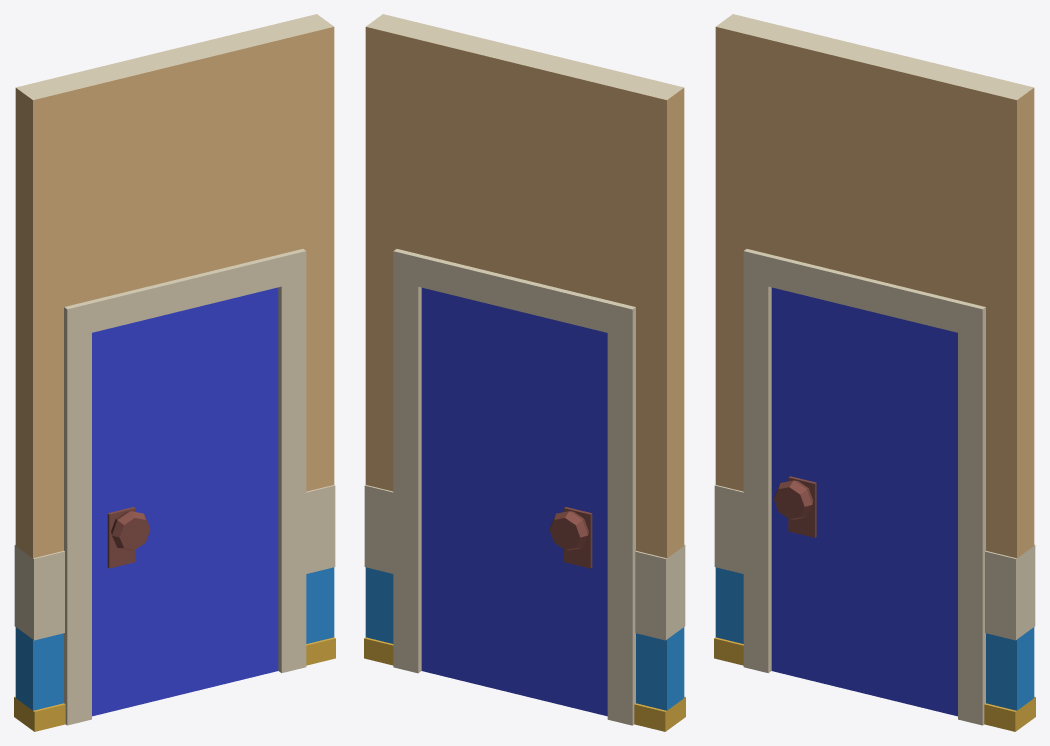
Rendered from door 1.fbx.
3 renders of one model, left to right at view 1: azimuth 30°, elevation 25°; view 2: azimuth 150°, elevation 25°; view 3: azimuth 330°, elevation 25°, orthographic.
Parts seen in each view (by area): view 1: Cube.022, Cube.023, Cube.020, Cube.024, Cube.021; view 2: Cube.022, Cube.023, Cube.020, Cube.025, Cube.021; view 3: Cube.022, Cube.023, Cube.020, Cube.024, Cube.021.
Boxes of the visible parts, <box> form: Cube.022: <box>15,14,334,730</box>; Cube.023: <box>92,287,278,716</box>; Cube.020: <box>14,485,335,640</box>; Cube.024: <box>107,507,150,568</box>; Cube.021: <box>14,637,335,731</box>; Cube.022: <box>365,14,684,730</box>; Cube.023: <box>421,287,607,716</box>; Cube.020: <box>364,485,685,640</box>; Cube.025: <box>549,507,592,568</box>; Cube.021: <box>364,637,685,731</box>; Cube.022: <box>715,14,1034,730</box>; Cube.023: <box>771,287,957,716</box>; Cube.020: <box>714,485,1035,640</box>; Cube.024: <box>774,476,816,537</box>; Cube.021: <box>714,637,1035,731</box>.
Size of the model in its own units: 2 by 0.5248 by 4.
